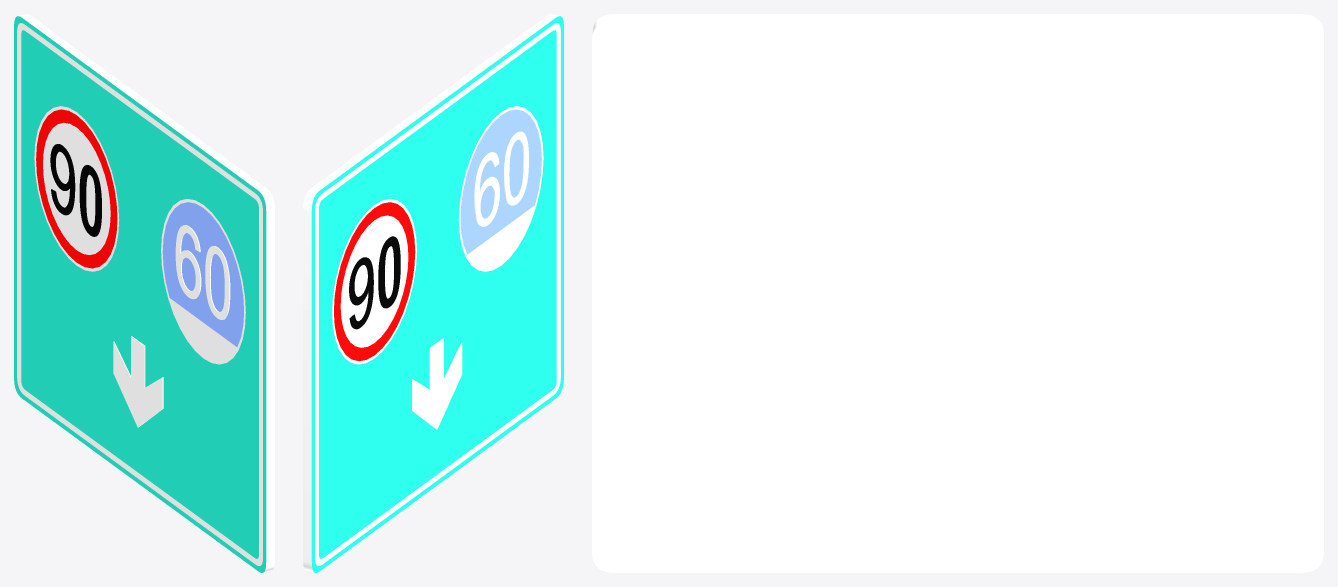
Rendered from Speed_Limit_60-90.glb.
3 views of the same model, side by side, from view 1: azimuth 30°, elevation 25°; view 2: azimuth 150°, elevation 25°; view 3: azimuth 270°, elevation 25° (orthographic). The views are drawn at different scales.
Visible parts, largest first — view 1: Speed_Limit_60_90; view 2: Speed_Limit_60_90; view 3: Speed_Limit_60_90.
Boxes of the visible parts, x1,y1,x2,y2 form: Speed_Limit_60_90: [14, 14, 274, 572]; Speed_Limit_60_90: [303, 14, 563, 572]; Speed_Limit_60_90: [592, 14, 1323, 572].
Bounding box in the file's own units: 0.0331 × 1.25 × 1.5.
